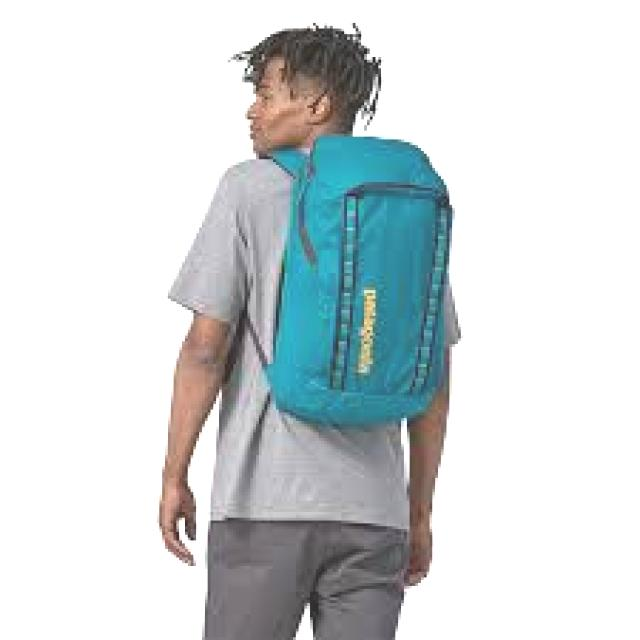backpack: (243, 132, 457, 428)
